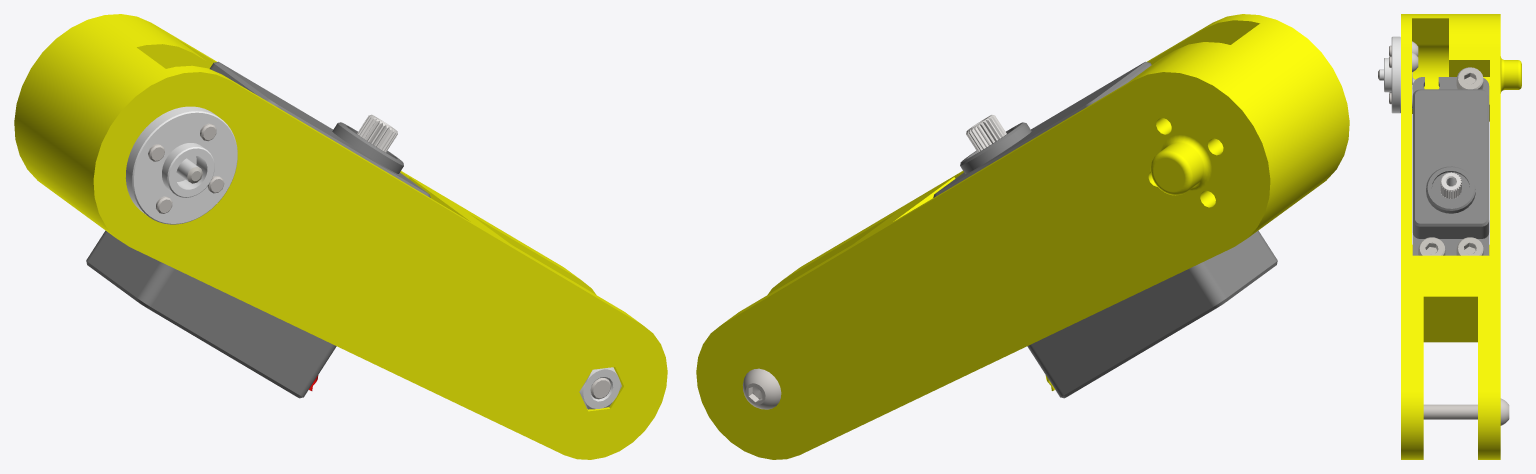
3 renders of one model, left to right at view 1: azimuth 30°, elevation 25°; view 2: azimuth 150°, elevation 25°; view 3: azimuth 270°, elevation 25°, orthographic. The views are drawn at different scales.
Parts seen in each view (by area): view 1: R2_obj.002; view 2: R2_obj.002; view 3: R2_obj.002.
Part boxes in pixels (box(x1,y1,x2,y2)): R2_obj.002: box(14, 14, 667, 459); R2_obj.002: box(696, 14, 1349, 459); R2_obj.002: box(1378, 14, 1521, 459).
Bounding box in the file's own units: 0.1087 × 0.0375 × 0.0881.
